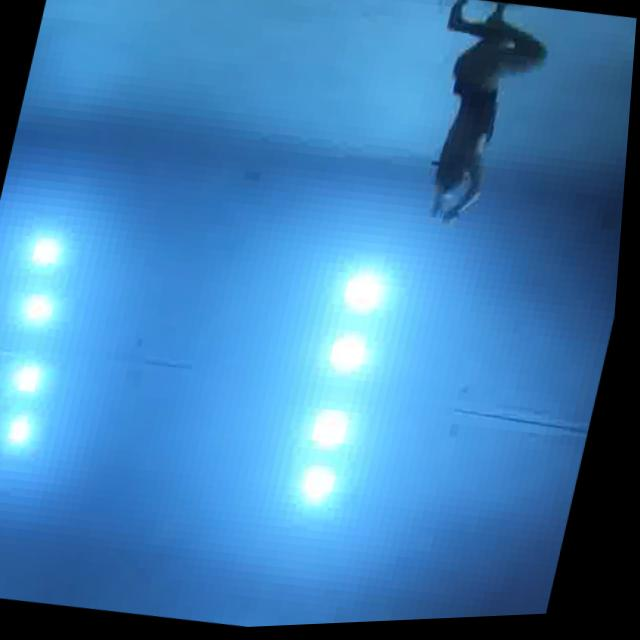human: (394, 0, 568, 246)
